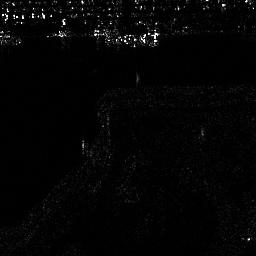ship: (105, 33, 159, 46)
